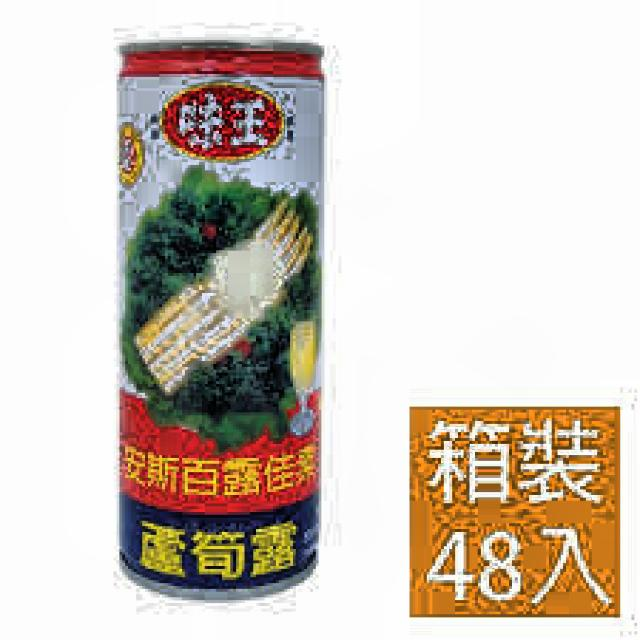can: (96, 26, 332, 608)
